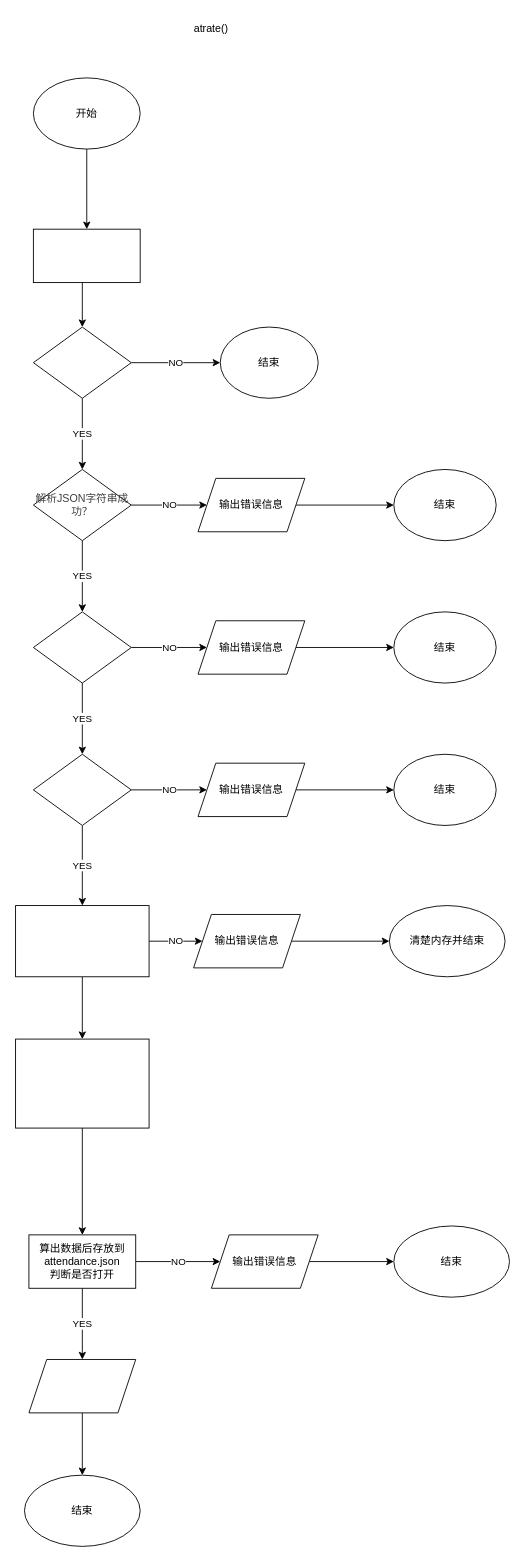
This 525x1562 diagram has some shape labels left out. Each missing label, with the centre of its shape:
"getcontests() 获取比赛列表 paticf() 获取参赛列表" belongs at pixel 86 255.
"从参赛数据中获取首次参赛时间" belongs at pixel 82 941.
"判断JSON格式是不是数组" belongs at pixel 81 789.
"判断请求状态是否OK" belongs at pixel 81 647.
"算出每个月的有效比赛数并计算出勤率" belongs at pixel 82 1083.
"输出信息 上传并打开对应网页" belongs at pixel 82 1386.
"返回JSON字符串成功？" belongs at pixel 81 362.
